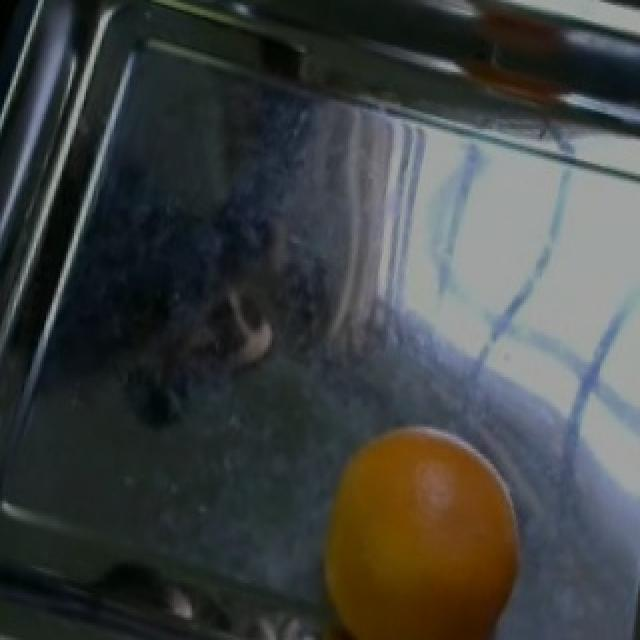Fruit: (306, 412, 532, 637)
